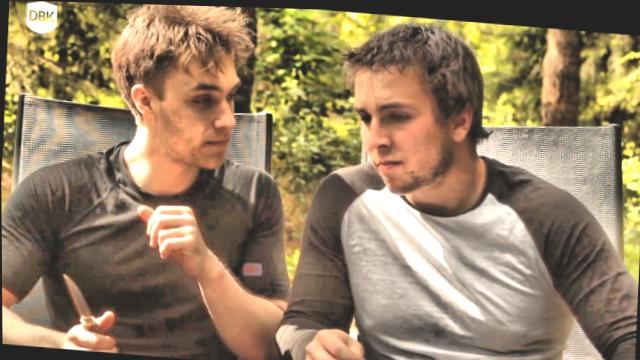knife: (55, 262, 121, 352)
